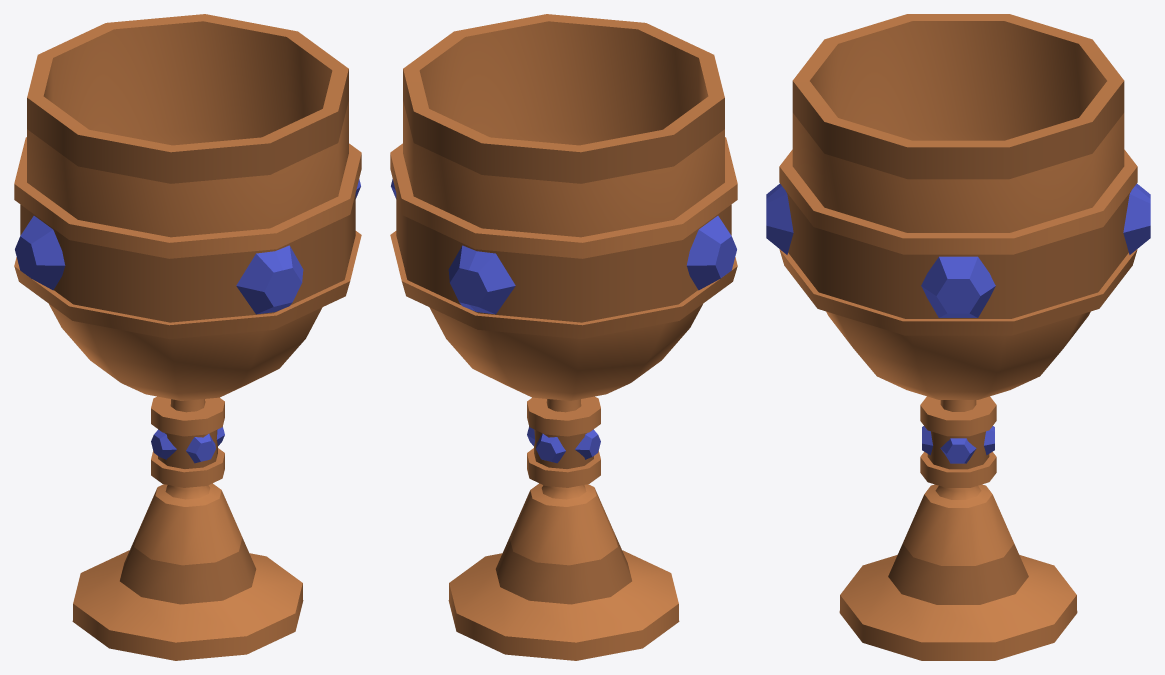
File: Goblet_03.fbx
3 views of the same model, side by side, from view 1: azimuth 30°, elevation 25°; view 2: azimuth 150°, elevation 25°; view 3: azimuth 270°, elevation 25° (orthographic).
Parts seen in each view (by area): view 1: Goblet_03; view 2: Goblet_03; view 3: Goblet_03.
Boxes of the visible parts, x1,y1,x2,y2 form: Goblet_03: [14, 14, 361, 660]; Goblet_03: [390, 14, 737, 660]; Goblet_03: [766, 14, 1150, 660].
Bounding box in the file's own units: 0.1524 × 0.2371 × 0.1549.
